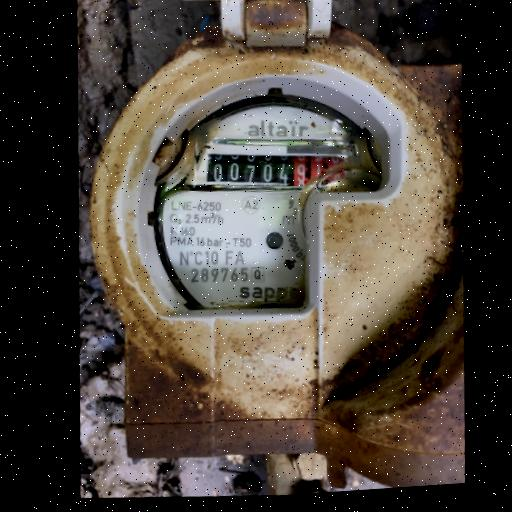0: (210, 159, 225, 185), (227, 161, 242, 184), (261, 161, 275, 185)
1: (310, 162, 324, 181)
4: (277, 161, 293, 189)
7: (244, 162, 258, 186)
9: (292, 162, 308, 187)
border_water_meter_number: (187, 131, 357, 201)
